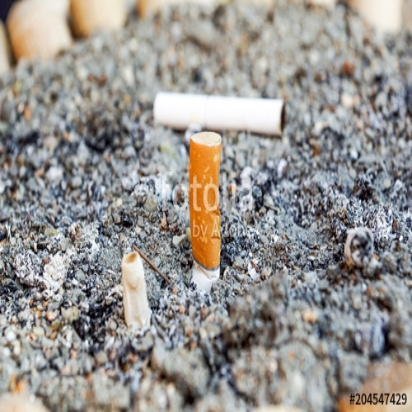cigarette: (183, 127, 229, 284), (144, 91, 290, 136), (116, 249, 159, 350)
